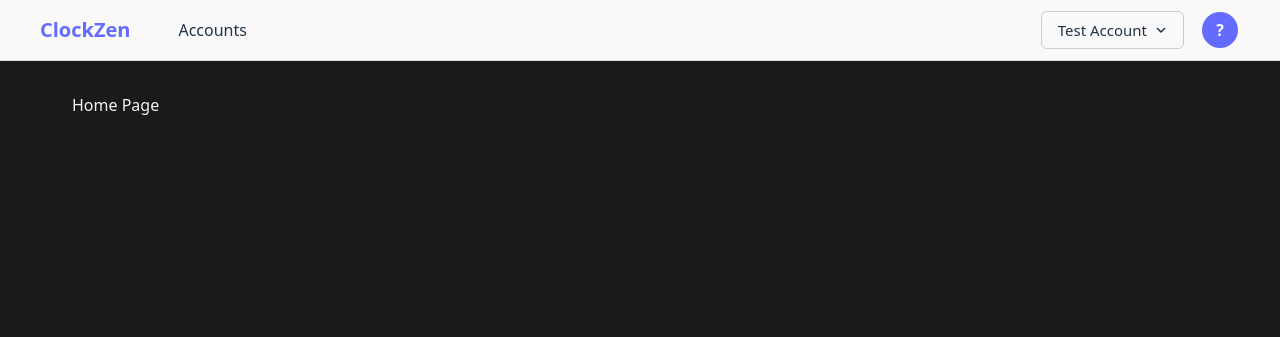
Test: Layout › User Display Edge Cases › shows User when name is missing in dropdown
Click the button with class "user-menu-trigger" at (1220, 30), box [1200,10,1240,50]
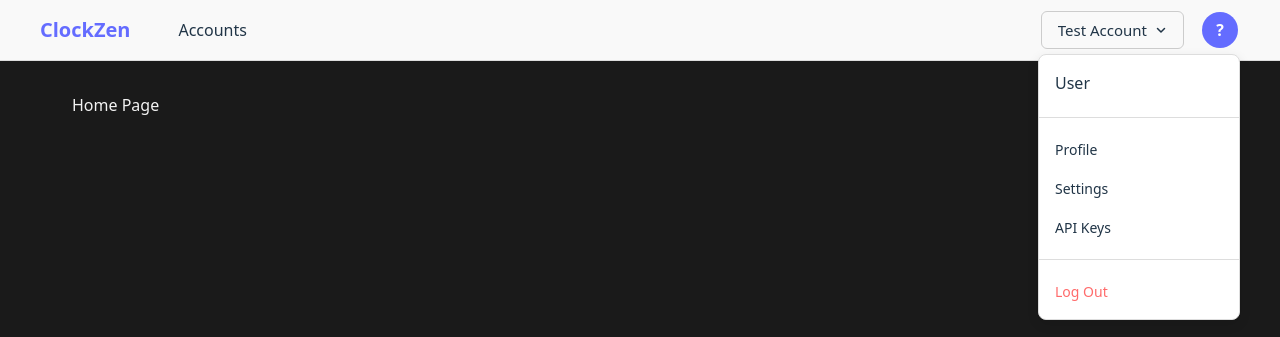
Expected: the text "User" is shown, [1055,72,1090,94]
